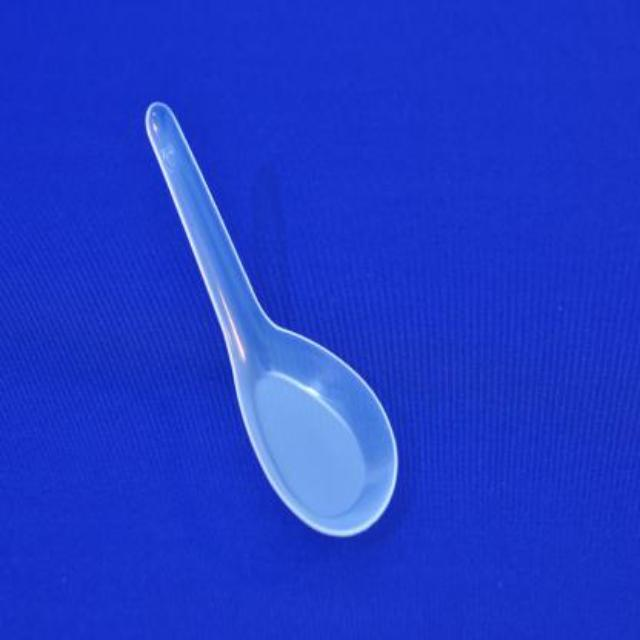plastic_box: (146, 101, 398, 541)
